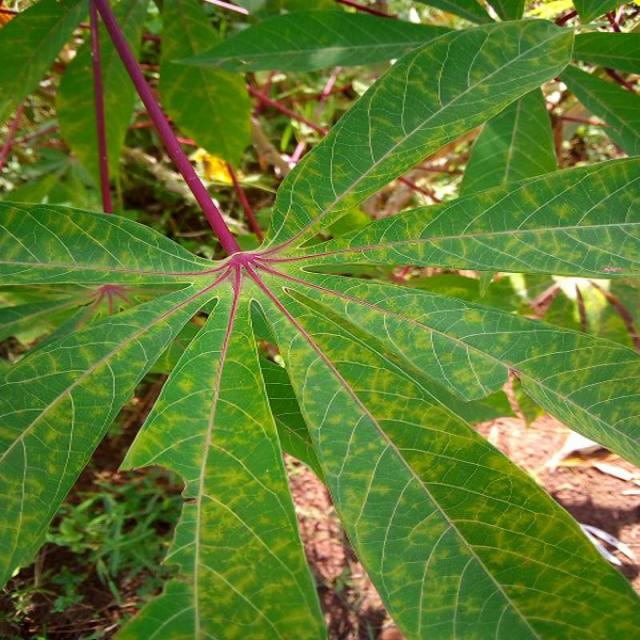cassava leaf: (1, 2, 638, 638), (111, 272, 327, 638), (262, 15, 575, 253)
